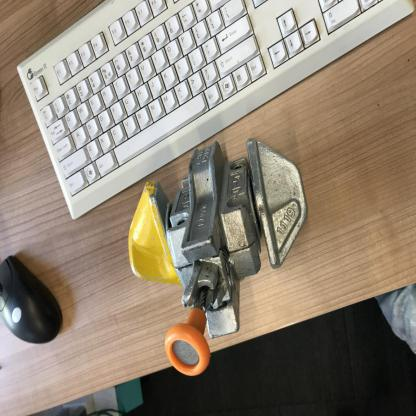Twistlock: (125, 135, 315, 383)
